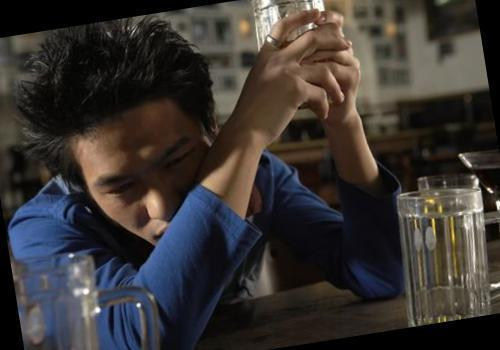Drunk: (80, 106, 201, 239)
